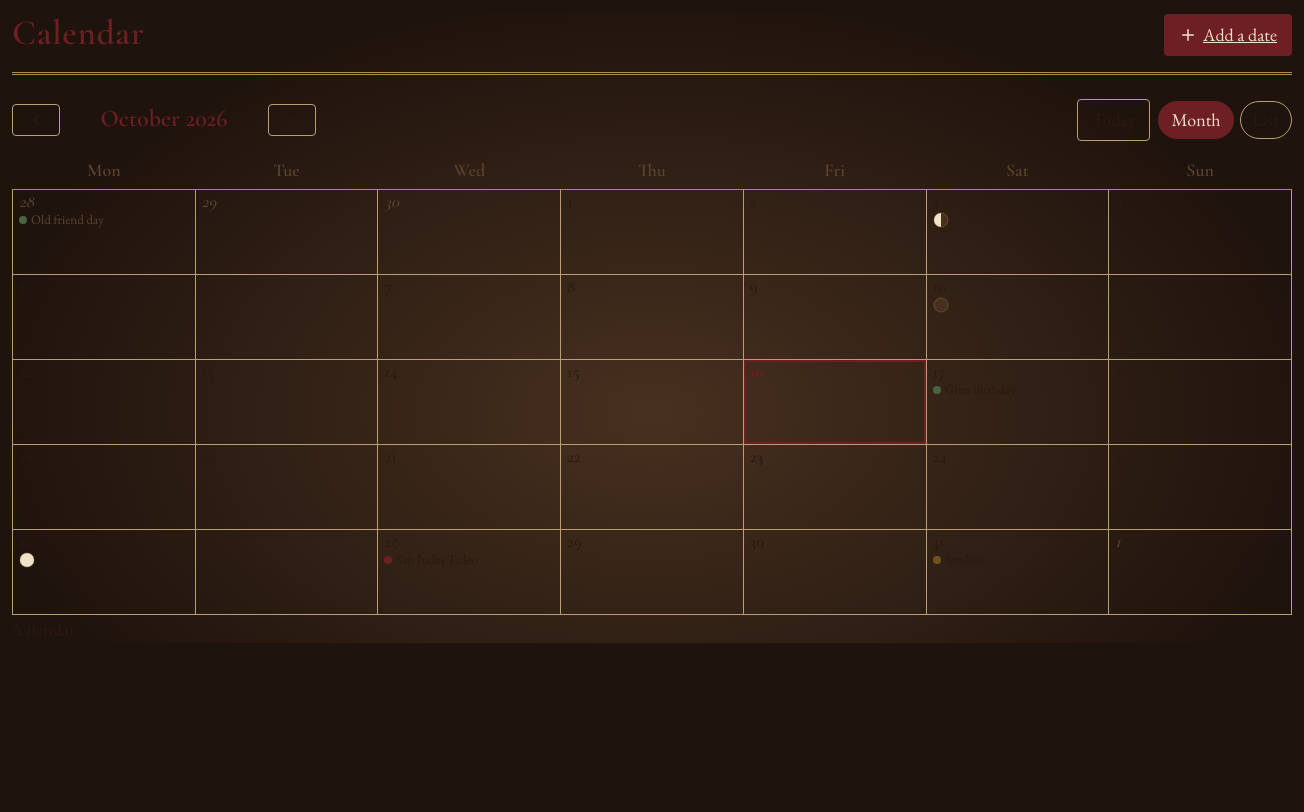
Test case: Calendar › opens a day with San Judas Tadeo linking to its entry
Click the button with aria-label "October 28, 2026" at (469,572), box [378,530,560,614]
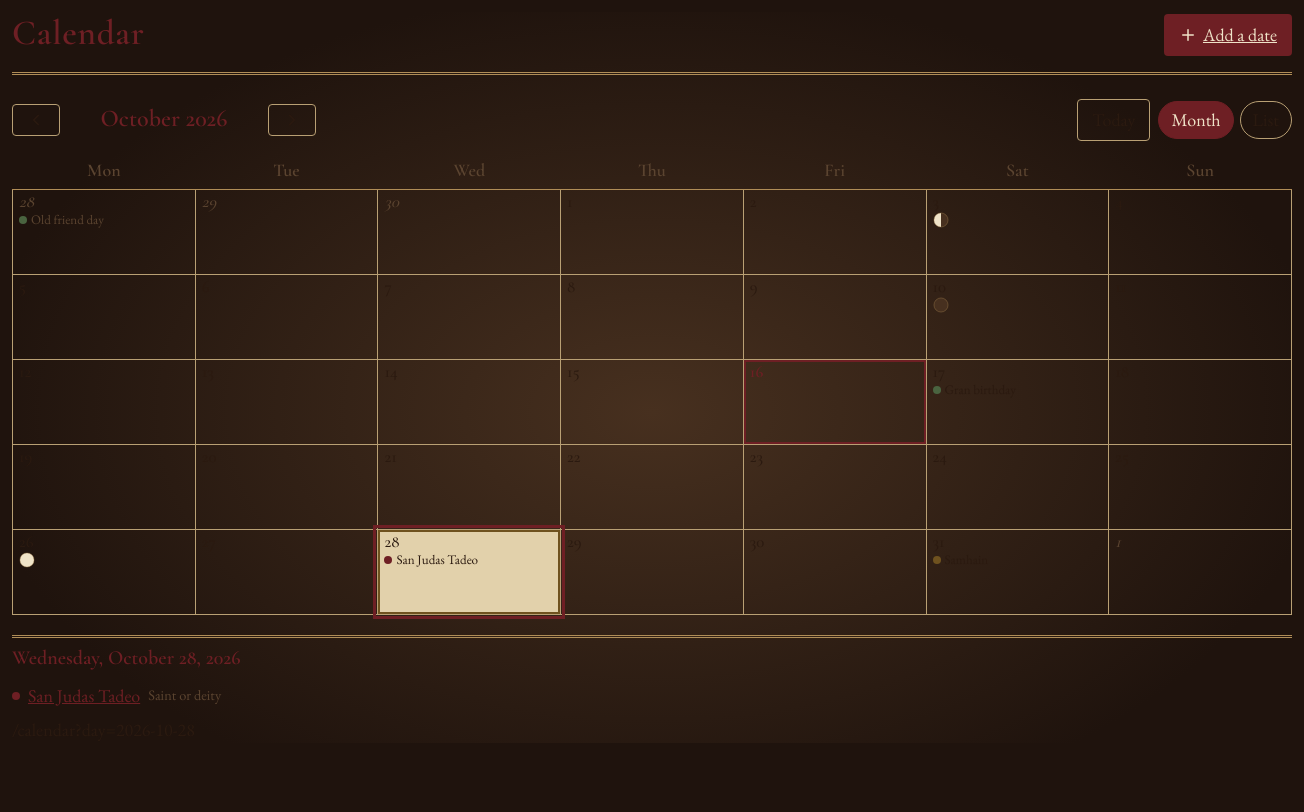
Result: the text "Saint or deity" is shown at [148,684,221,707]
